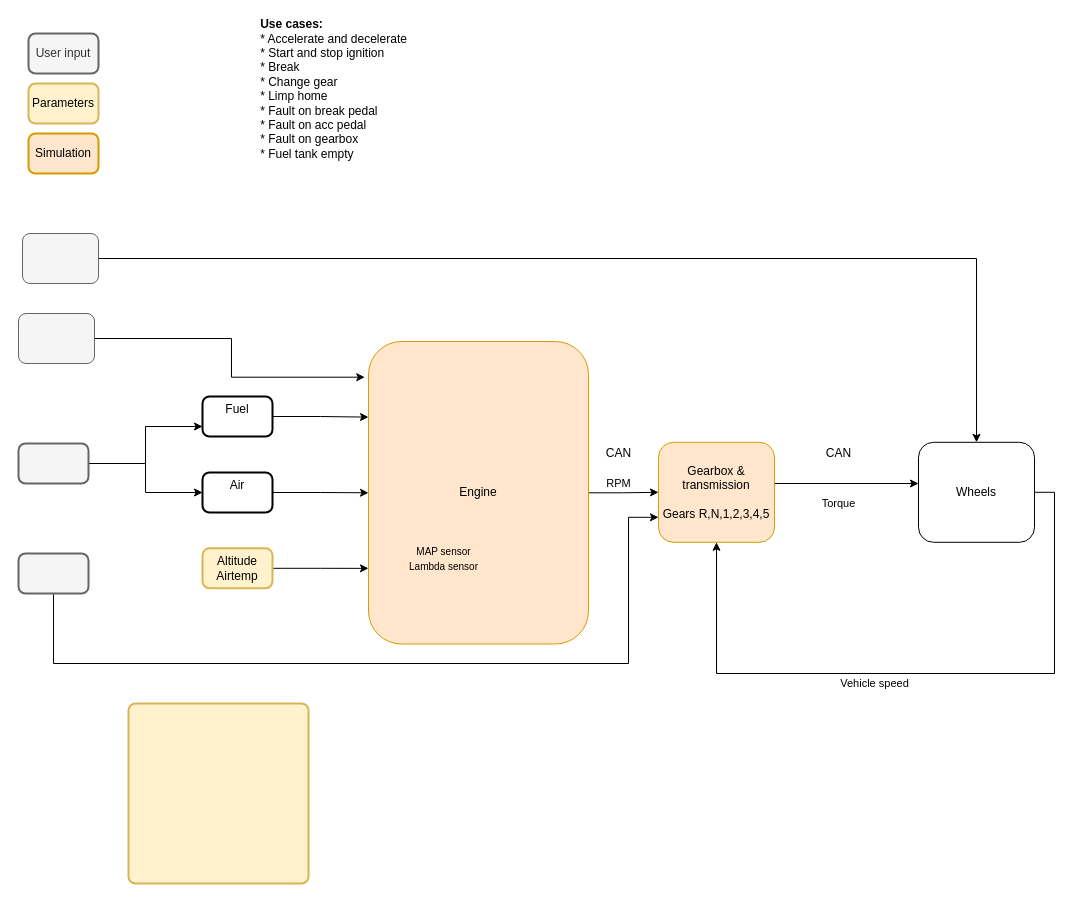
The diagram is 1080 pixels wide and 902 high, and some of its shapes have lost their labels. Each missing label, with the centre of its shape:
"Acc pedal" belongs at (53,463).
"Brake pedal" belongs at (60,258).
"Gear R,P,N,D" belongs at (53,573).
"Ignition" belongs at (56,338).
"Vehicle information Mass Passanger mass Wheel radius" belongs at (218,793).
